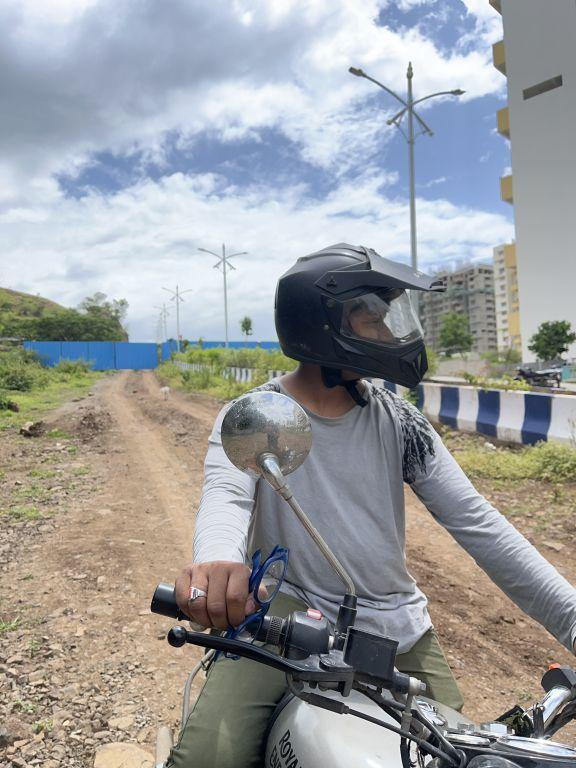helmet: (265, 229, 452, 394)
